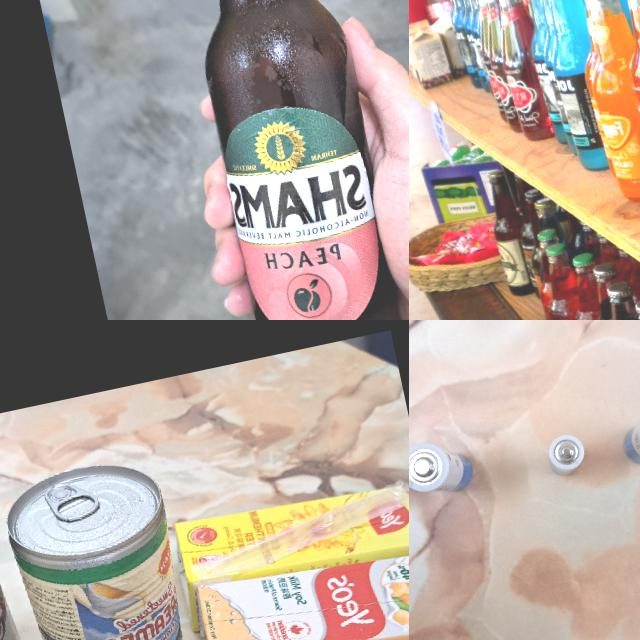aba de lata: (42, 476, 102, 526)
bateria: (409, 433, 476, 502), (544, 431, 588, 478), (616, 400, 640, 468)
caixinha: (167, 468, 409, 604), (185, 535, 409, 640)
garrafa de vidro: (146, 0, 409, 320), (530, 0, 621, 175), (569, 0, 640, 205), (483, 0, 557, 144), (600, 0, 640, 218), (481, 165, 538, 298), (586, 278, 640, 320)
lata: (0, 451, 198, 640)
